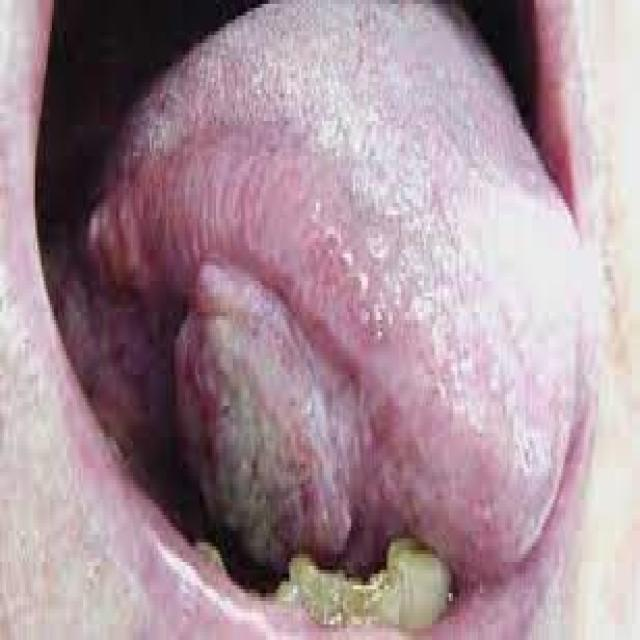Cancer: (145, 253, 461, 640)
